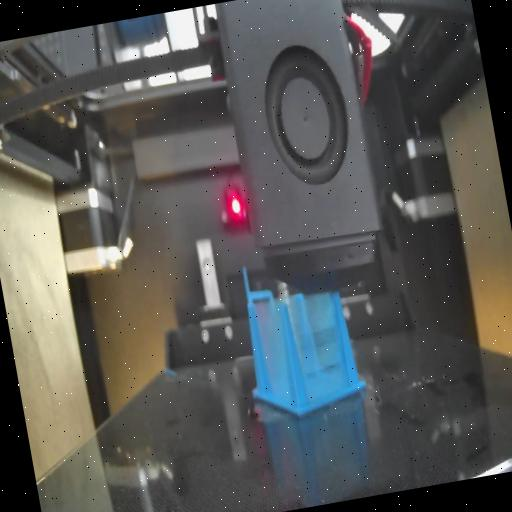stringing: (288, 295, 356, 410), (248, 294, 296, 414)
